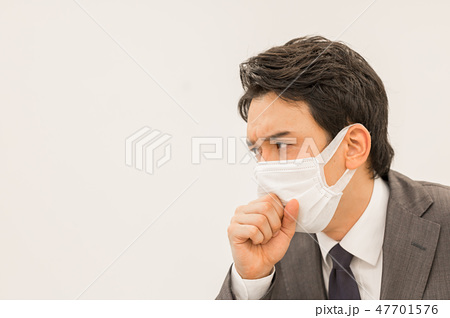mask: (247, 163, 357, 237)
